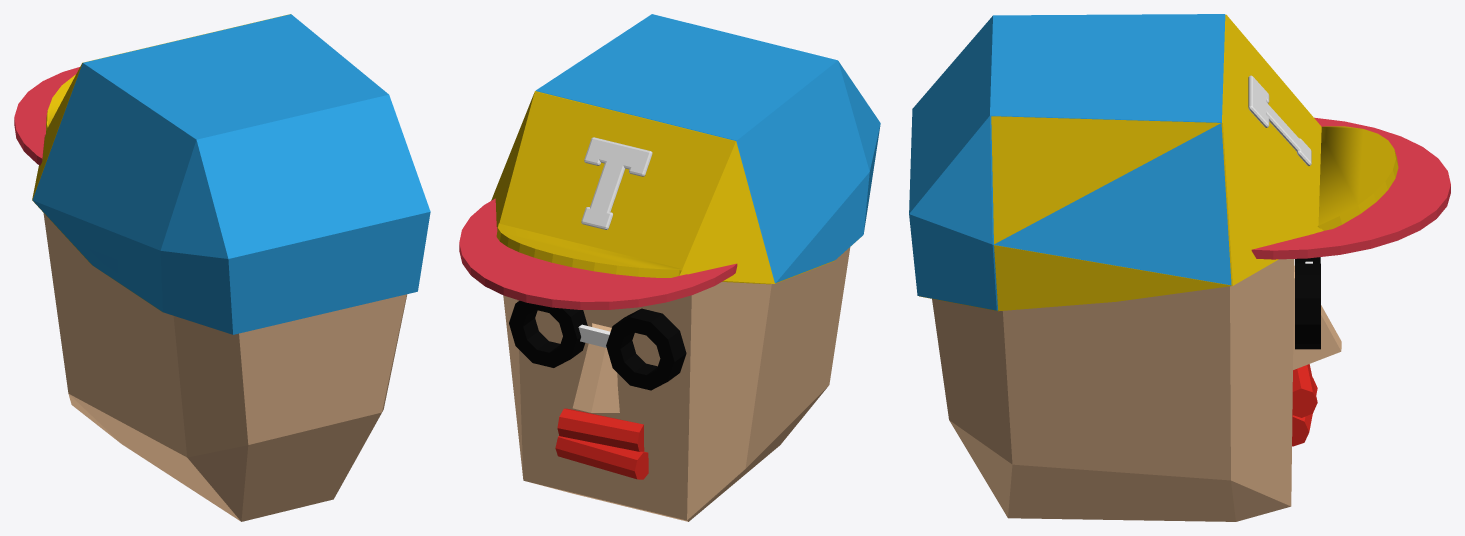
Rendered from take.glb.
The picture shows the model from 3 angles, left to right: view 1: azimuth 30°, elevation 25°; view 2: azimuth 150°, elevation 25°; view 3: azimuth 270°, elevation 25°; orthographic projection. The views are drawn at different scales.
Visible parts, largest first — view 1: cap, head, yellowCap; view 2: cap, head, yellowCap, glassL, glassR, lipTop, nose, lipBottom, glassFrame; view 3: head, cap, yellowCap, glassR, nose, lipTop.
Part boxes in pixels (x1=…): cap: x1=14, y1=14, x2=430, y2=334; head: x1=43, y1=213, x2=407, y2=521; yellowCap: x1=32, y1=14, x2=290, y2=311; cap: x1=459, y1=14, x2=880, y2=309; head: x1=503, y1=247, x2=850, y2=521; yellowCap: x1=491, y1=91, x2=857, y2=284; glassL: x1=606, y1=308, x2=686, y2=390; glassR: x1=509, y1=300, x2=587, y2=367; lipTop: x1=557, y1=408, x2=644, y2=451; nose: x1=572, y1=323, x2=619, y2=412; lipBottom: x1=555, y1=436, x2=648, y2=479; glassFrame: x1=578, y1=324, x2=610, y2=347; head: x1=932, y1=259, x2=1294, y2=521; cap: x1=909, y1=14, x2=1450, y2=310; yellowCap: x1=919, y1=14, x2=1398, y2=311; glassR: x1=1295, y1=263, x2=1320, y2=349; nose: x1=1293, y1=265, x2=1341, y2=369; lipTop: x1=1292, y1=364, x2=1317, y2=417.
Size of the model in its own units: 0.4195 by 0.5399 by 0.62.
